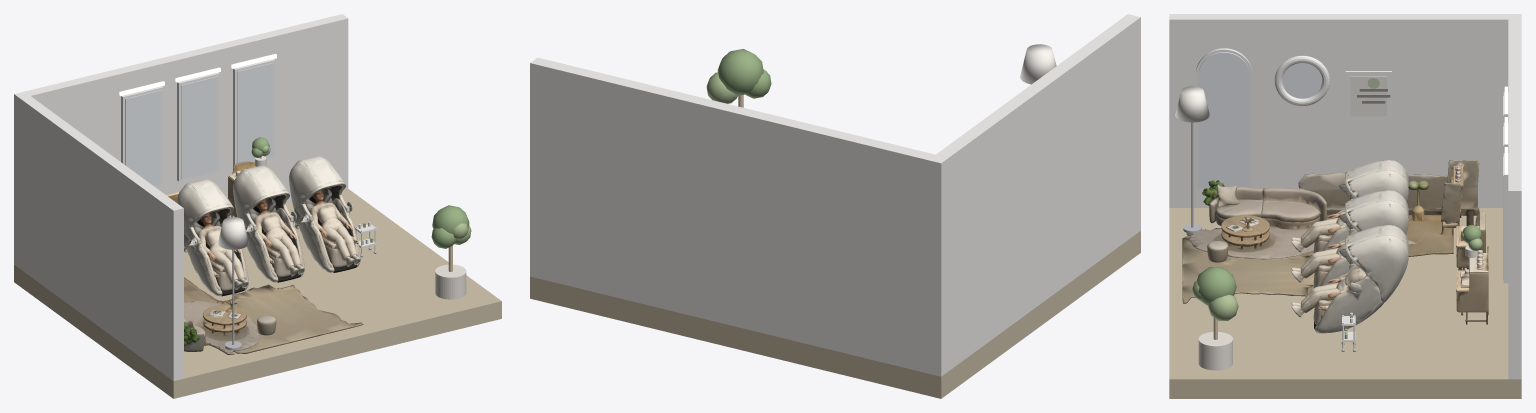
Rendered from salon.glb.
3 views of the same model, side by side, from view 1: azimuth 30°, elevation 25°; view 2: azimuth 150°, elevation 25°; view 3: azimuth 270°, elevation 25° (orthographic). The views are drawn at different scales.
Parts seen in each view (by area): view 1: Room_WallLeft, Room_FloorSlab, Room_WallBack, station_pod_3, station_pod_2, station_pod_1, Deco_StationMirrorGlass1, Deco_StationMirrorGlass2, Deco_StationMirrorGlass0, tripo_part_20, tripo_part_13, tripo_part_9 (+7 smaller); view 2: Room_WallBack, Room_WallLeft, Room_FloorSlab, Deco_TreeFloor_Leaf0, Deco_LampShade, Deco_TreeFloor_Leaf1; view 3: Room_WallLeft, Room_FloorSlab, station_pod_3, Room_WallBack, Deco_ArchGlassBox, station_pod_2, station_pod_1, tripo_part_2, Deco_ArchGlassArc, tripo_part_6, tripo_part_20, tripo_part_13 (+29 smaller).
Boxes of the visible parts, bbox=[...] form: Room_WallLeft: bbox=[20, 96, 183, 381]; Room_FloorSlab: bbox=[14, 189, 501, 398]; Room_WallBack: bbox=[14, 14, 348, 268]; station_pod_3: bbox=[289, 156, 360, 272]; station_pod_2: bbox=[233, 165, 304, 282]; station_pod_1: bbox=[177, 179, 248, 296]; Deco_StationMirrorGlass1: bbox=[181, 76, 217, 179]; Deco_StationMirrorGlass2: bbox=[237, 62, 273, 163]; Deco_StationMirrorGlass0: bbox=[125, 90, 161, 185]; tripo_part_20: bbox=[187, 284, 309, 316]; tripo_part_13: bbox=[219, 314, 321, 354]; tripo_part_9: bbox=[184, 302, 258, 349]; Room_WallBack: bbox=[530, 57, 948, 376]; Room_WallLeft: bbox=[936, 14, 1140, 370]; Room_FloorSlab: bbox=[530, 231, 1140, 398]; Deco_TreeFloor_Leaf0: bbox=[717, 49, 763, 95]; Deco_LampShade: bbox=[1020, 44, 1056, 84]; Deco_TreeFloor_Leaf1: bbox=[706, 72, 737, 103]; Room_WallLeft: bbox=[1169, 14, 1508, 207]; Room_FloorSlab: bbox=[1169, 208, 1521, 398]; station_pod_3: bbox=[1291, 225, 1408, 333]; Room_WallBack: bbox=[1508, 14, 1521, 379]; Deco_ArchGlassBox: bbox=[1198, 77, 1249, 187]; station_pod_2: bbox=[1291, 190, 1408, 287]; station_pod_1: bbox=[1291, 160, 1408, 253]; tripo_part_2: bbox=[1209, 186, 1333, 223]; Deco_ArchGlassArc: bbox=[1198, 52, 1249, 99]; tripo_part_6: bbox=[1409, 160, 1479, 208]; tripo_part_20: bbox=[1252, 250, 1314, 296]; tripo_part_13: bbox=[1182, 229, 1266, 280].
Bounding box in the file's own units: 1.26 × 0.69 × 1.06.
Materials: 101 (86 with a texture image).
